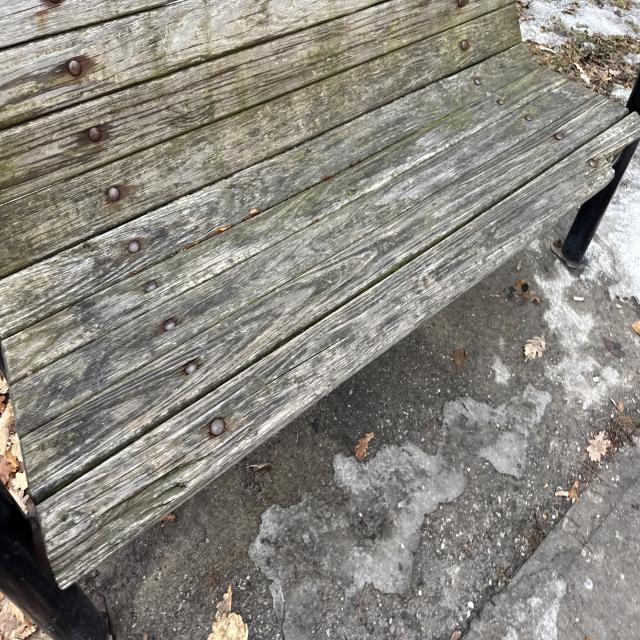Bench: (2, 2, 632, 362), (0, 0, 308, 592)
